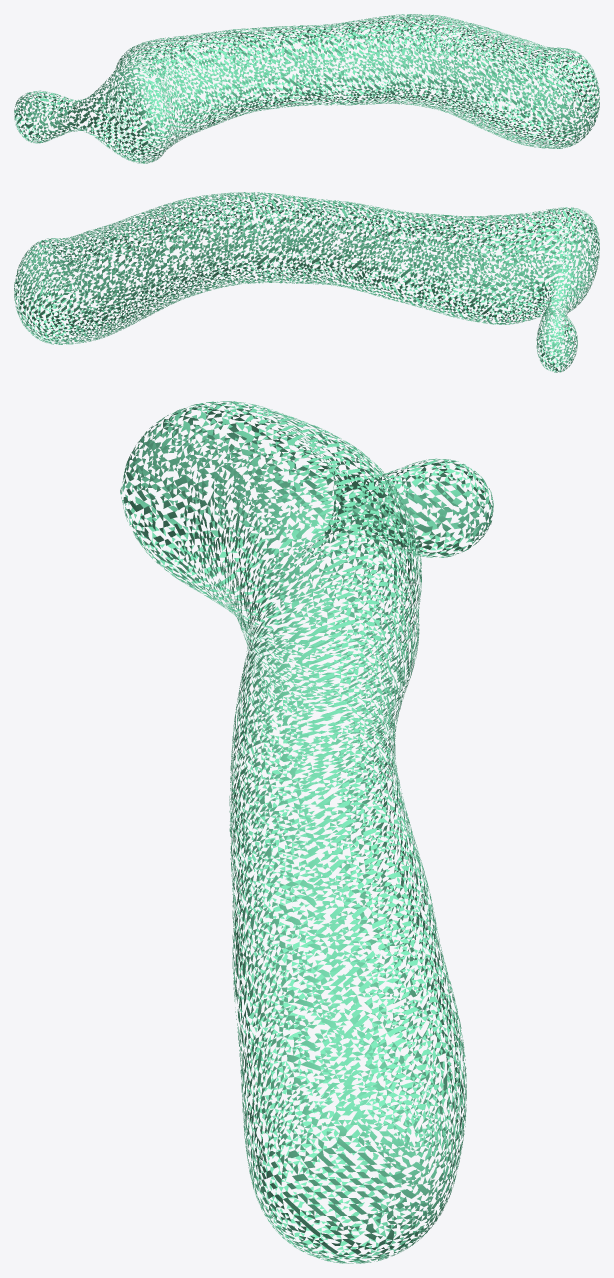
Rendered from healthy.glb.
3 renders of one model, top to bottom at view 1: azimuth 30°, elevation 25°; view 2: azimuth 150°, elevation 25°; view 3: azimuth 270°, elevation 25°, orthographic. The views are drawn at different scales.
Size of the model in its own units: 130 by 47.96 by 38.65.
